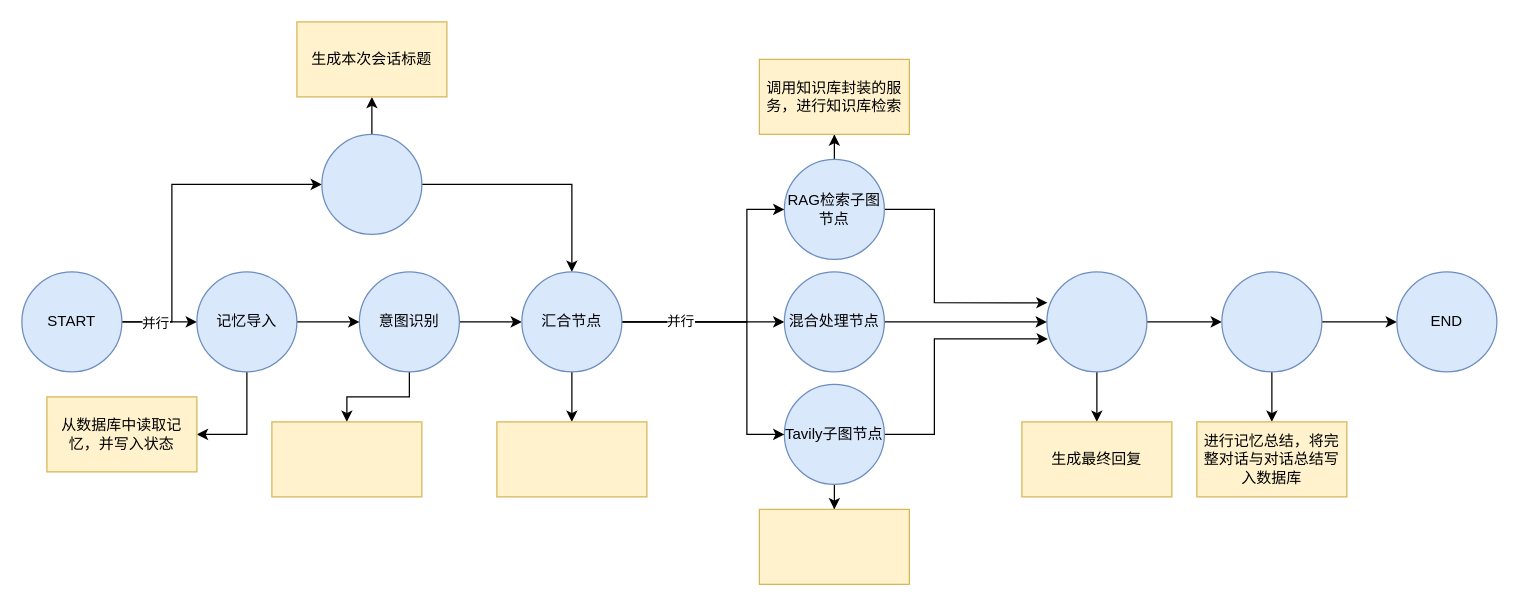
Some shapes in this 1519 by 606 pixel diagram are drawn without their labels. The box of each missing label's shape, as (x1, y1, x2, y2) in pixels:
会话标题: (321, 133, 422, 234)
使用Tavily工具检索: (758, 508, 909, 584)
构造Prompt生成回复: (1046, 271, 1147, 372)
根据知识库元数据信息判断检索方式，写入状态: (271, 421, 422, 497)
等待前序处理完成，统一进行后续流程: (496, 421, 647, 497)
记忆总结: (1221, 271, 1322, 372)
